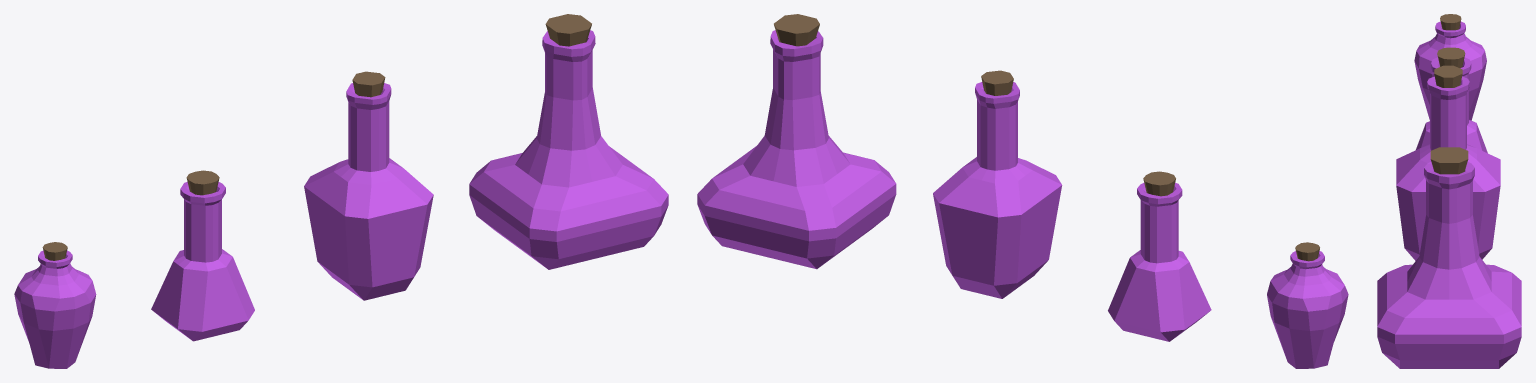
The model's file is Bottiglie viola piccole-grandi.fbx.
3 views of the same model, side by side, from view 1: azimuth 30°, elevation 25°; view 2: azimuth 150°, elevation 25°; view 3: azimuth 270°, elevation 25° (orthographic). The views are drawn at different scales.
Parts seen in each view (by area): view 1: Large_Purple, Medium_Purple, Small_Purple, Vial_Purple; view 2: Large_Purple, Medium_Purple, Small_Purple, Vial_Purple; view 3: Large_Purple, Medium_Purple, Vial_Purple, Small_Purple.
Part boxes in pixels (x1=…): Large_Purple: x1=469, y1=14, x2=668, y2=269; Medium_Purple: x1=304, y1=71, x2=433, y2=300; Small_Purple: x1=151, y1=170, x2=254, y2=341; Vial_Purple: x1=14, y1=242, x2=96, y2=368; Large_Purple: x1=697, y1=14, x2=896, y2=269; Medium_Purple: x1=933, y1=70, x2=1062, y2=298; Small_Purple: x1=1108, y1=171, x2=1211, y2=341; Vial_Purple: x1=1267, y1=242, x2=1348, y2=368; Large_Purple: x1=1377, y1=147, x2=1521, y2=368; Medium_Purple: x1=1396, y1=65, x2=1500, y2=260; Vial_Purple: x1=1414, y1=14, x2=1486, y2=120; Small_Purple: x1=1416, y1=47, x2=1487, y2=153.
Bounding box in the file's own units: 2656 × 881 × 598.
